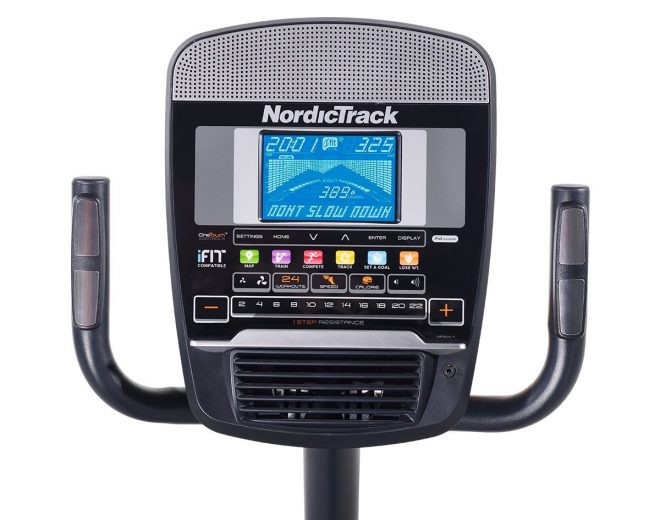gym_bike: (54, 10, 609, 520)
